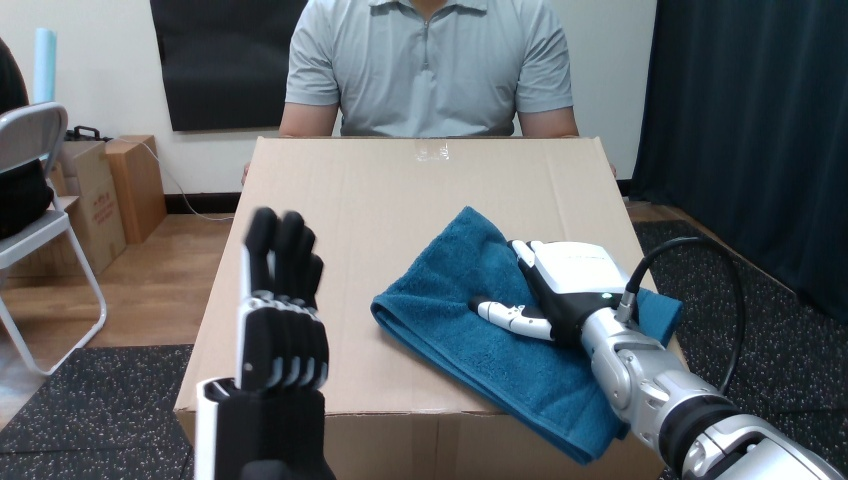left robot hand: (194, 207, 333, 479), (752, 333, 847, 473)
